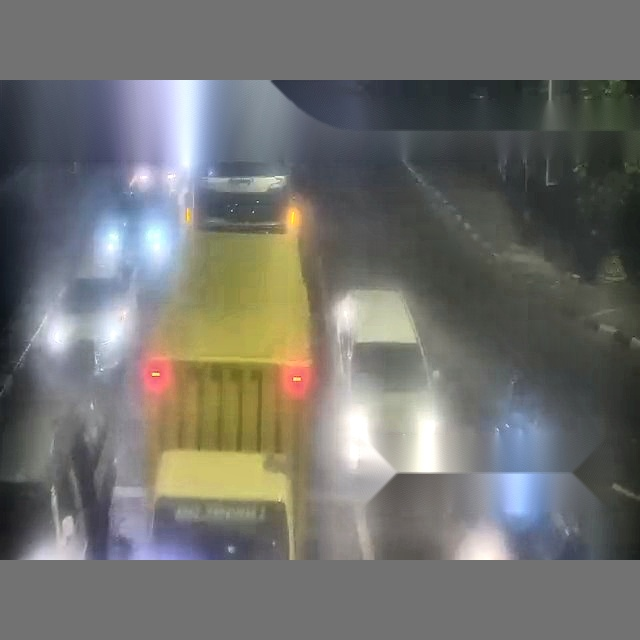Mobil: (334, 289, 441, 472)
Truk: (137, 204, 317, 557)
